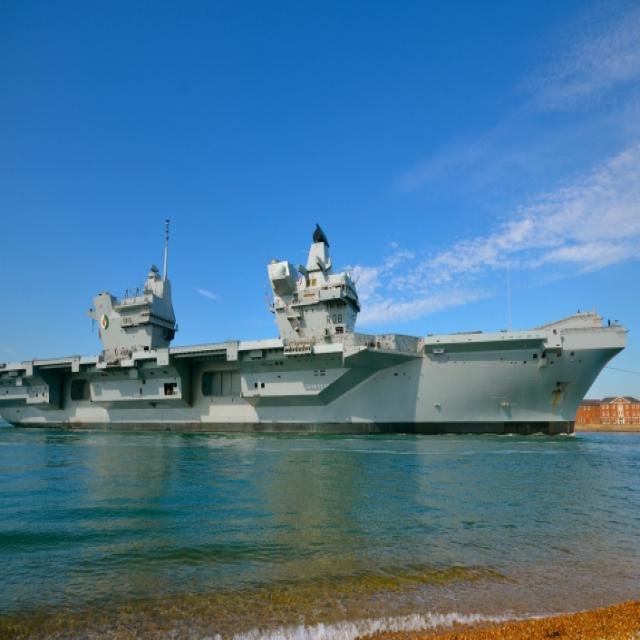Portanaves: (1, 204, 634, 446)
